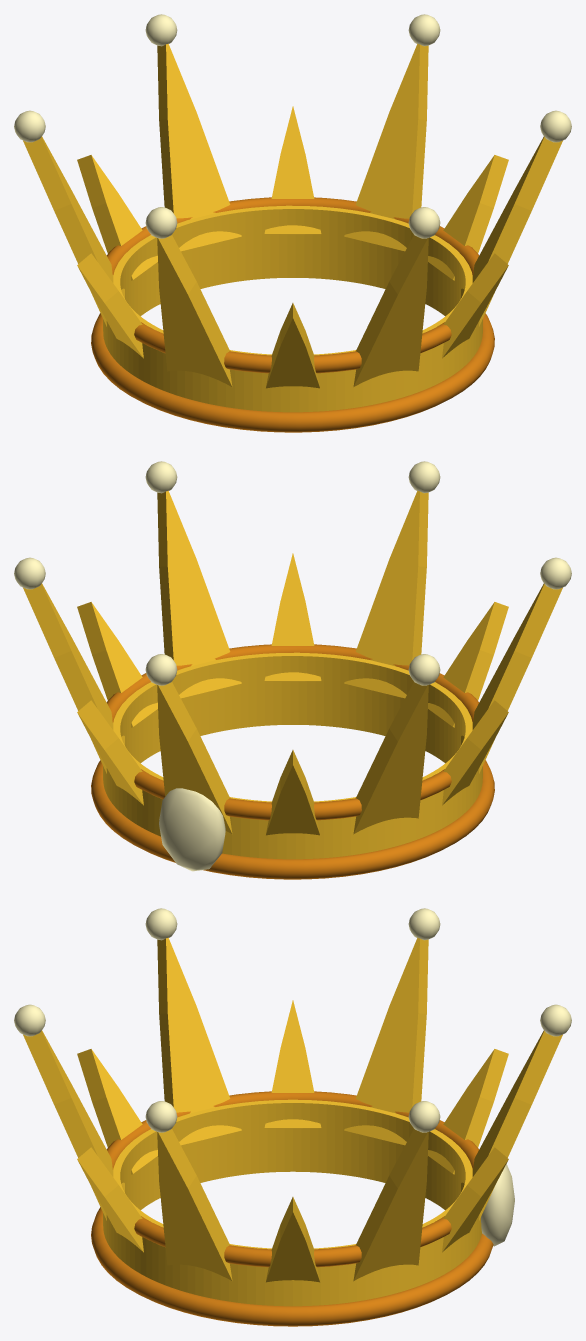
File: SunKingCrown.obj
The picture shows the model from 3 angles, top to bottom: view 1: azimuth 30°, elevation 25°; view 2: azimuth 150°, elevation 25°; view 3: azimuth 270°, elevation 25°; orthographic projection.
Parts seen in each view (by area): view 1: SunGold, SunRim, SunGem; view 2: SunGold, SunRim, SunGem; view 3: SunGold, SunRim, SunGem.
Part boxes in pixels (bbox=[...]): SunGold: bbox=[23, 43, 562, 412]; SunRim: bbox=[91, 197, 494, 432]; SunGem: bbox=[14, 14, 571, 238]; SunGold: bbox=[23, 490, 562, 859]; SunRim: bbox=[91, 644, 494, 879]; SunGem: bbox=[14, 461, 571, 871]; SunGold: bbox=[23, 937, 562, 1306]; SunRim: bbox=[91, 1091, 493, 1326]; SunGem: bbox=[14, 908, 571, 1246].
Bounding box in the file's own units: 1.31 × 0.6936 × 1.47.
